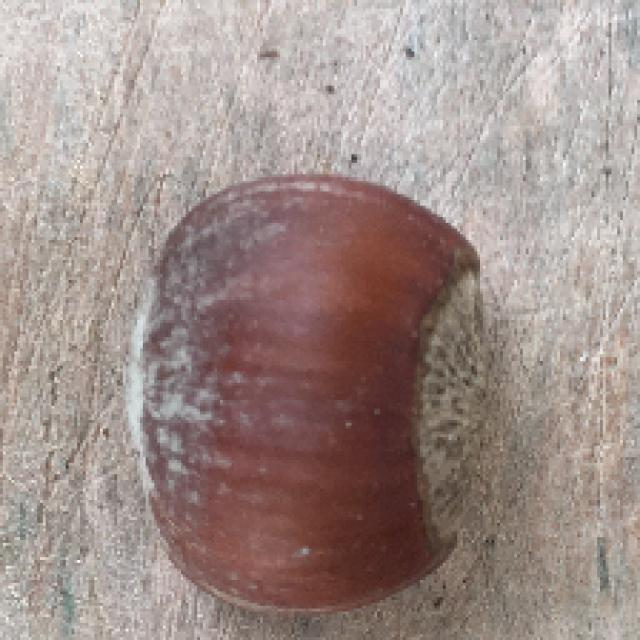qualityHazelnut: (121, 169, 498, 616)
